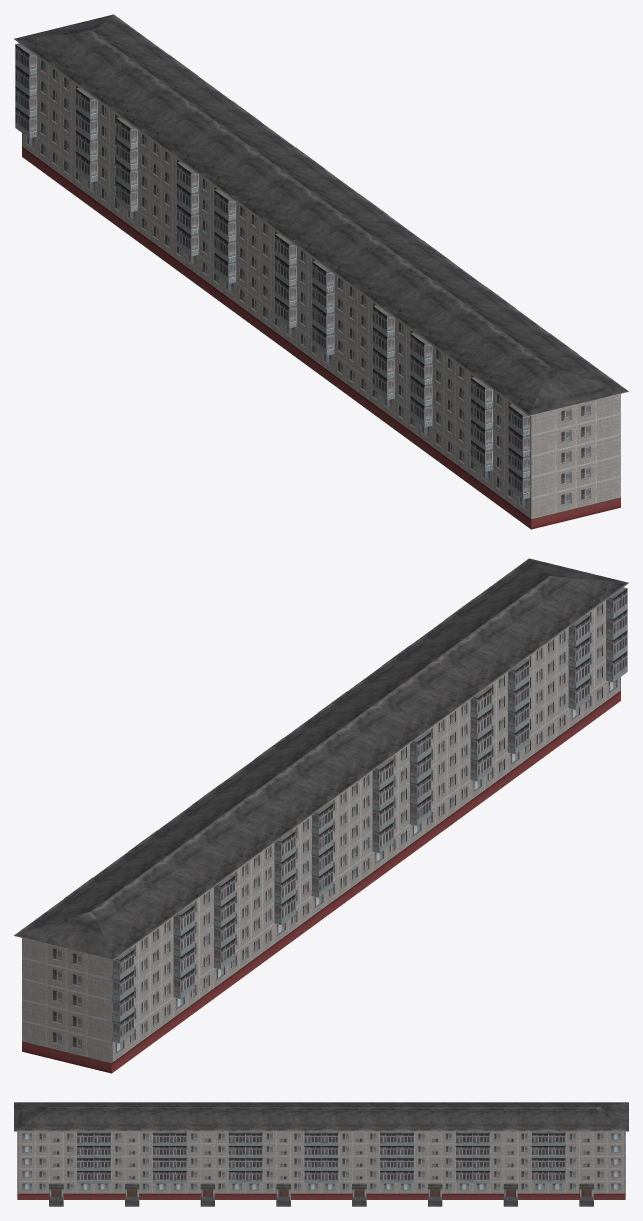
The model's file is soviet_panel_house_built_in_the_1970s.glb.
The picture shows the model from 3 angles, top to bottom: view 1: azimuth 30°, elevation 25°; view 2: azimuth 150°, elevation 25°; view 3: azimuth 270°, elevation 25°; orthographic projection. The views are drawn at different scales.
Parts seen in each view (by area): view 1: Plane.001; view 2: Plane.001; view 3: Plane.001.
Part boxes in pixels (x1,y1,x2,y2): Plane.001: (14, 14, 628, 529); Plane.001: (14, 558, 628, 1073); Plane.001: (14, 1102, 628, 1206).
Size of the model in its own units: 24.1 by 25.4 by 179.
Materials: 6 (6 with a texture image).
